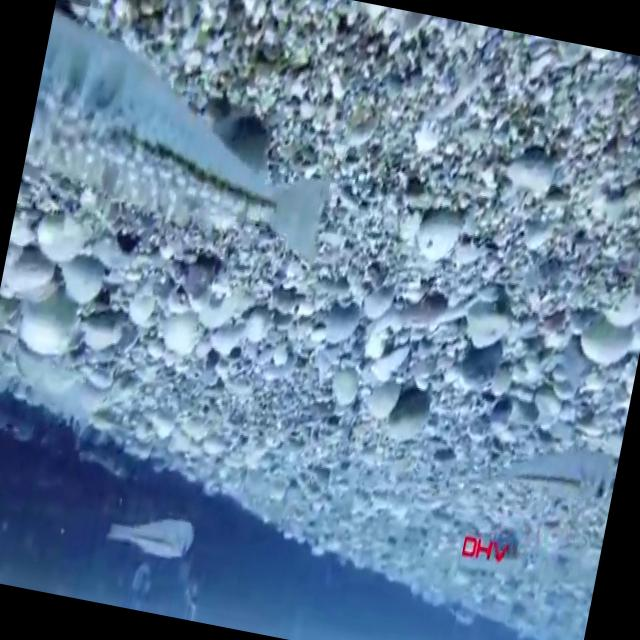Balon Baligi: (16, 11, 354, 265), (479, 432, 618, 509), (106, 506, 196, 562)
